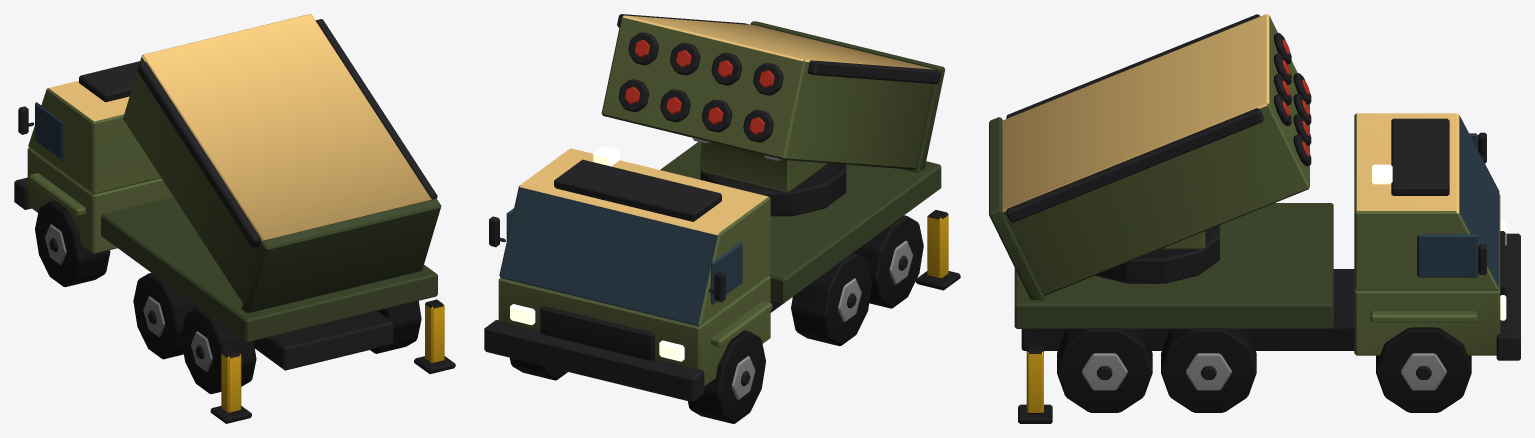
Rendered from artillery_truck.glb.
The picture shows the model from 3 angles, left to right: view 1: azimuth 30°, elevation 25°; view 2: azimuth 150°, elevation 25°; view 3: azimuth 270°, elevation 25°; orthographic projection. The views are drawn at different scales.
Parts seen in each view (by area): view 1: artillery_truck; view 2: artillery_truck; view 3: artillery_truck.
Boxes of the visible parts, box(x1,y1,x2,y2) form: artillery_truck: box(14, 14, 455, 423); artillery_truck: box(484, 14, 960, 423); artillery_truck: box(989, 14, 1520, 423).
Size of the model in its own units: 0.84 by 0.9695 by 1.53.
